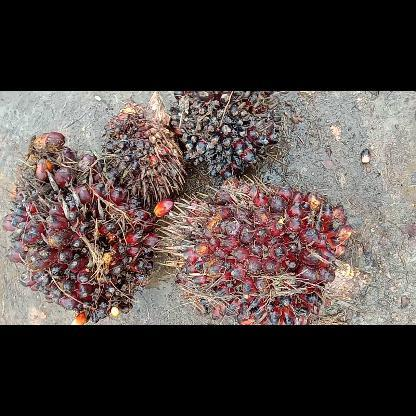Kurang masak: (1, 132, 157, 324)
TBS abnormal: (169, 90, 284, 178), (102, 91, 186, 201)
TBS masak: (154, 174, 370, 324)
